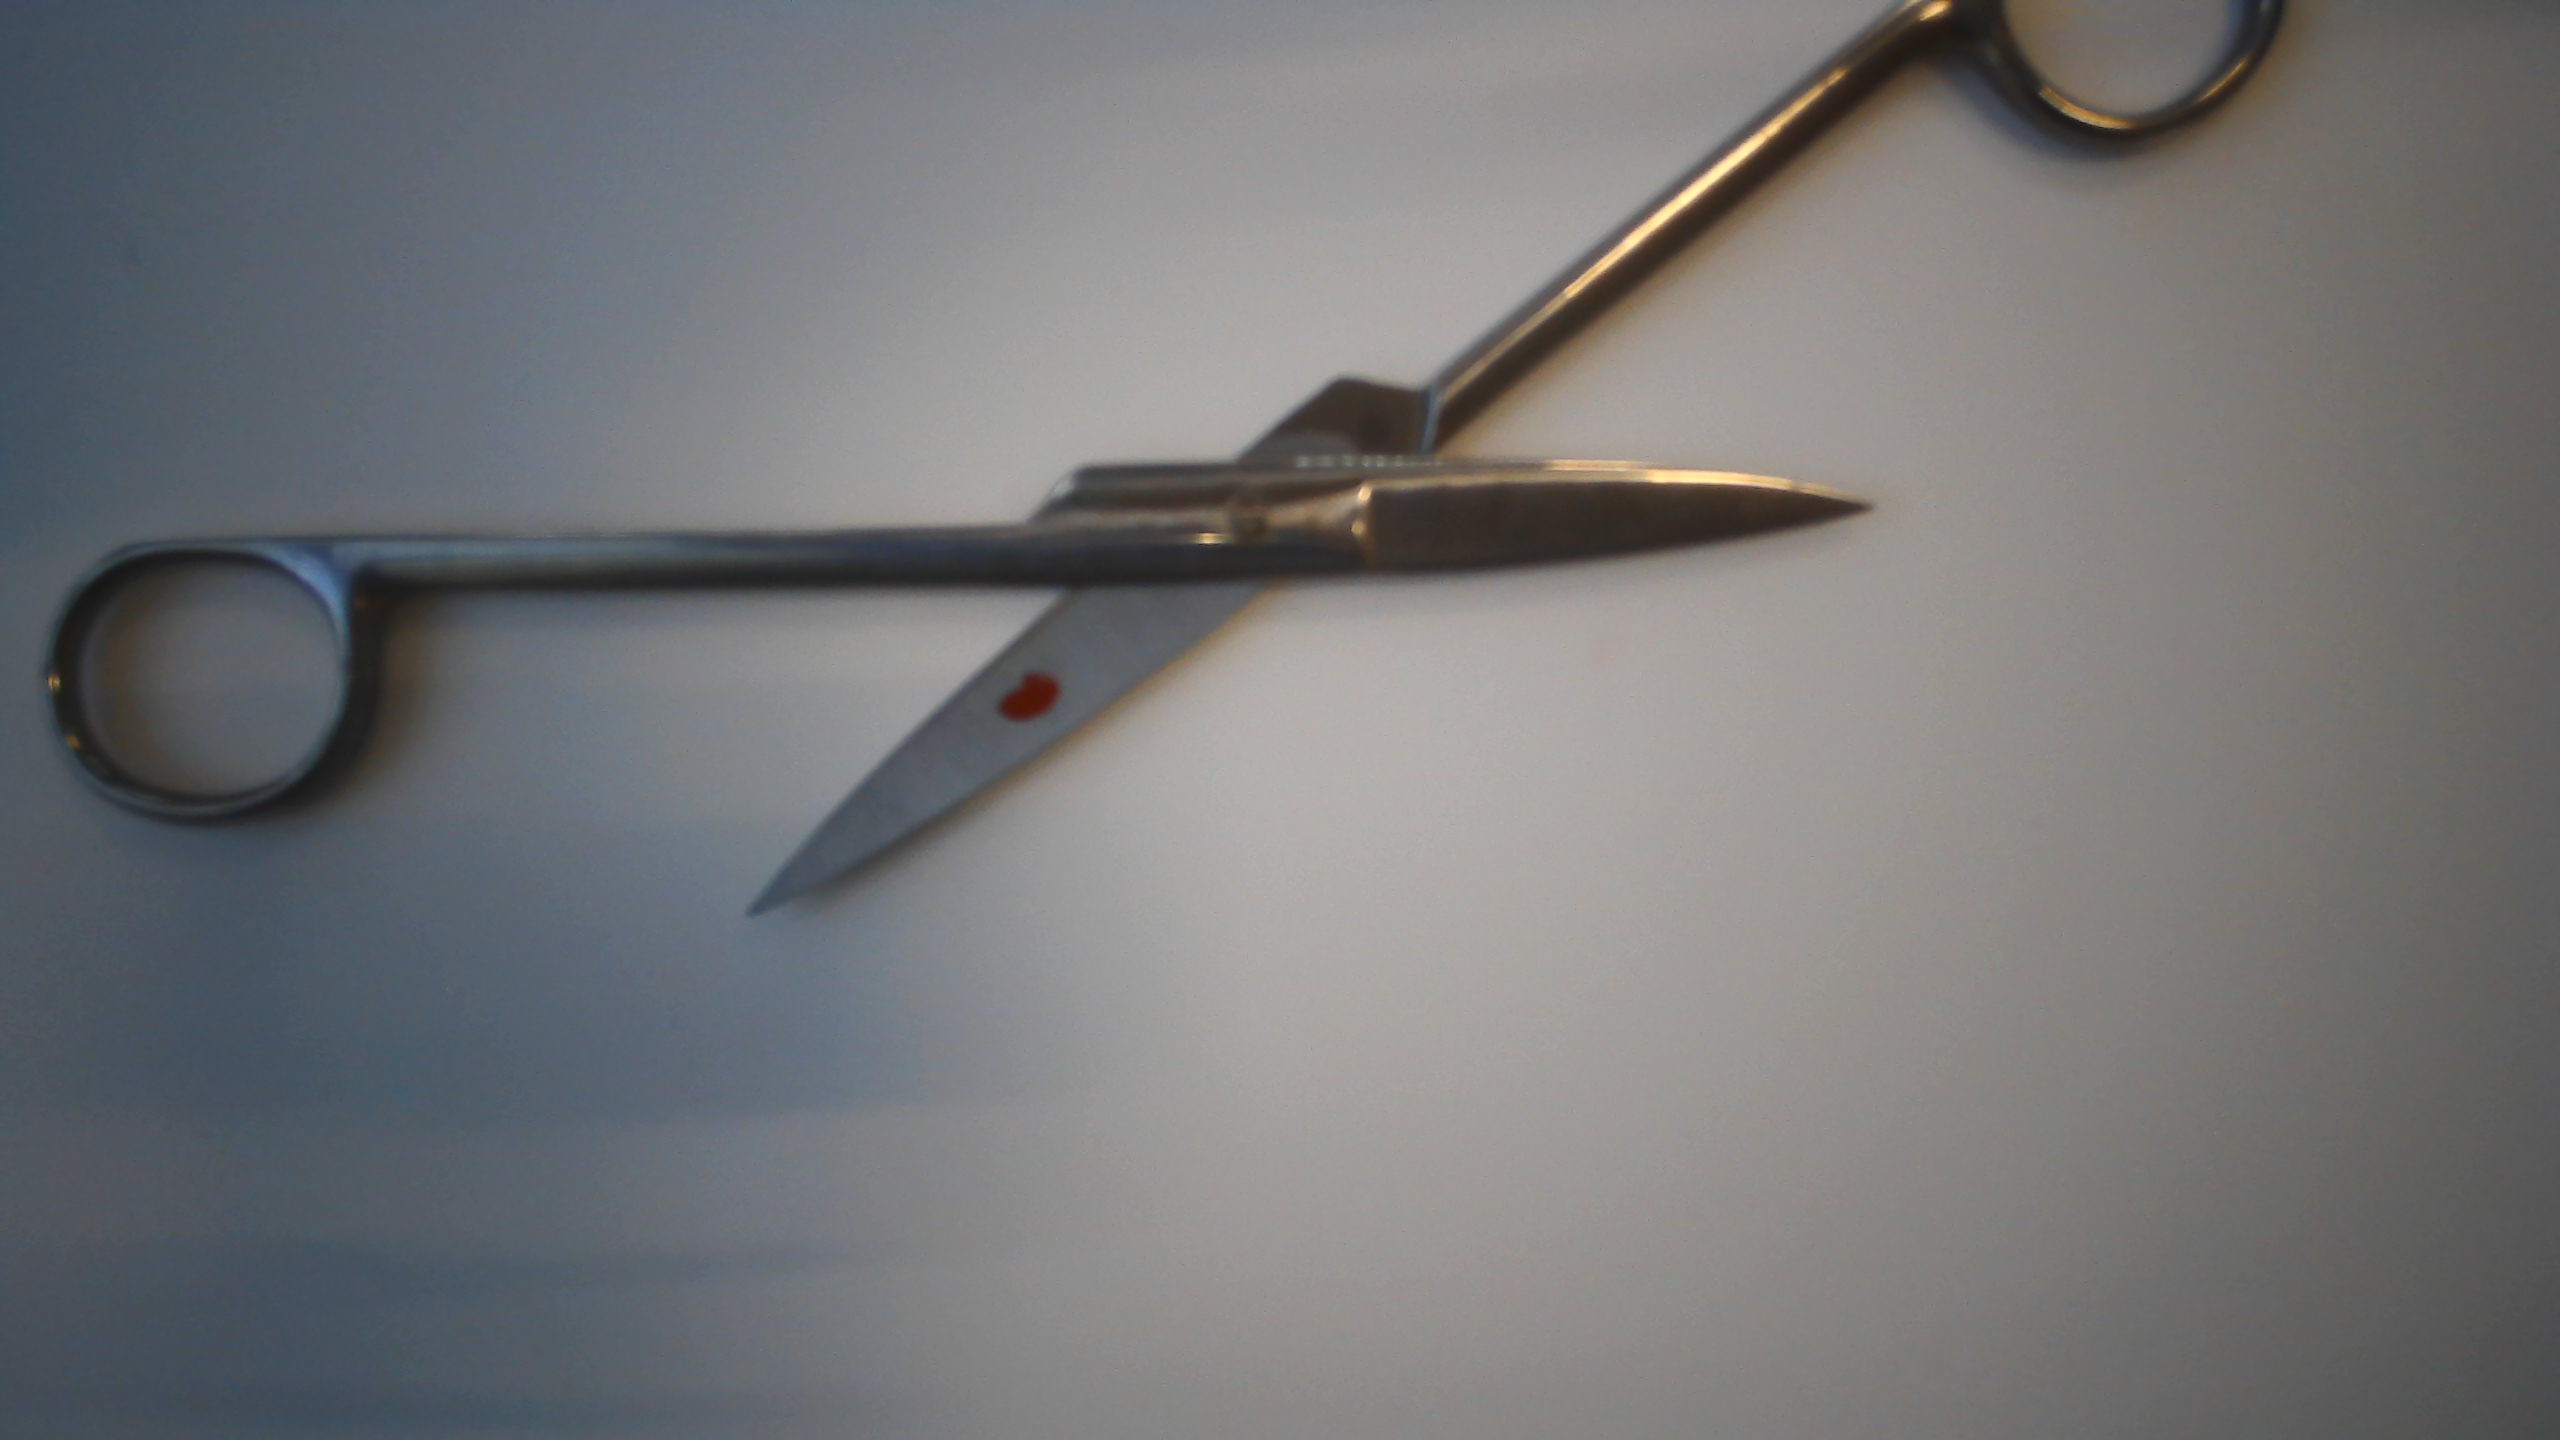Stain: (995, 665, 1073, 726)
